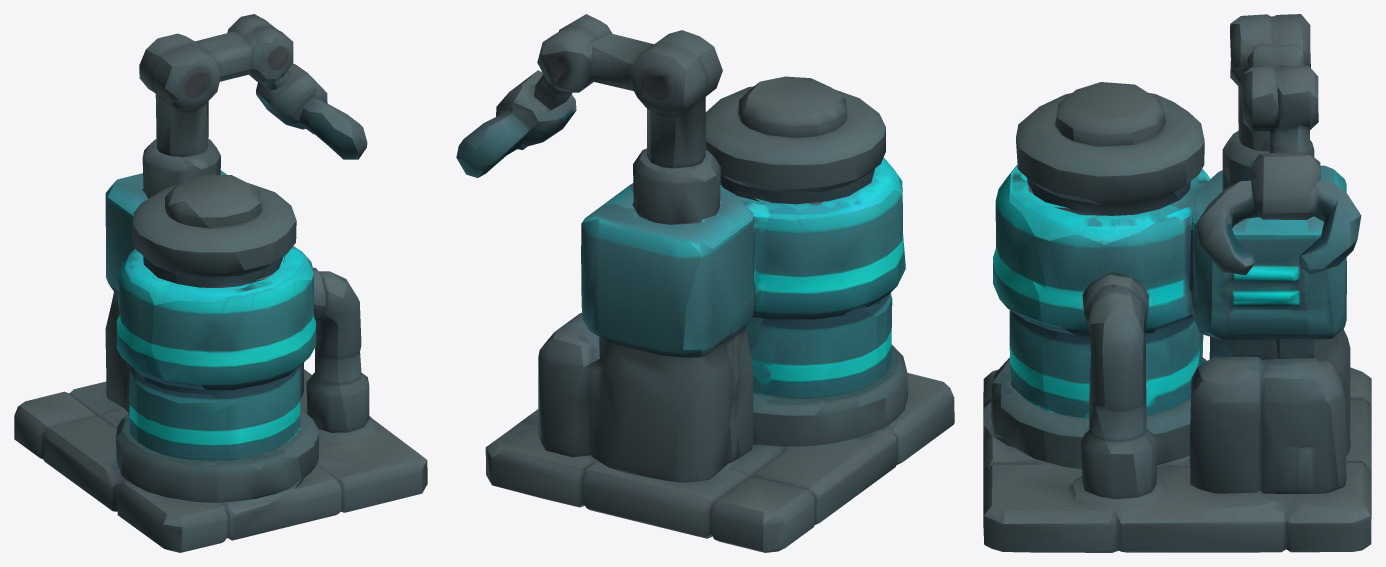
Rendered from Environment 3.2.fbx.
The picture shows the model from 3 angles, left to right: view 1: azimuth 30°, elevation 25°; view 2: azimuth 150°, elevation 25°; view 3: azimuth 270°, elevation 25°; orthographic projection. The views are drawn at different scales.
Parts seen in each view (by area): view 1: tmp_2bfespg.ply; view 2: tmp_2bfespg.ply; view 3: tmp_2bfespg.ply.
Part boxes in pixels (<box>): tmp_2bfespg.ply: <box>14,14,427,552</box>; tmp_2bfespg.ply: <box>456,14,954,552</box>; tmp_2bfespg.ply: <box>983,14,1371,552</box>.
Bounding box in the file's own units: 160 × 199 × 152.
1 material, 1 textured.
